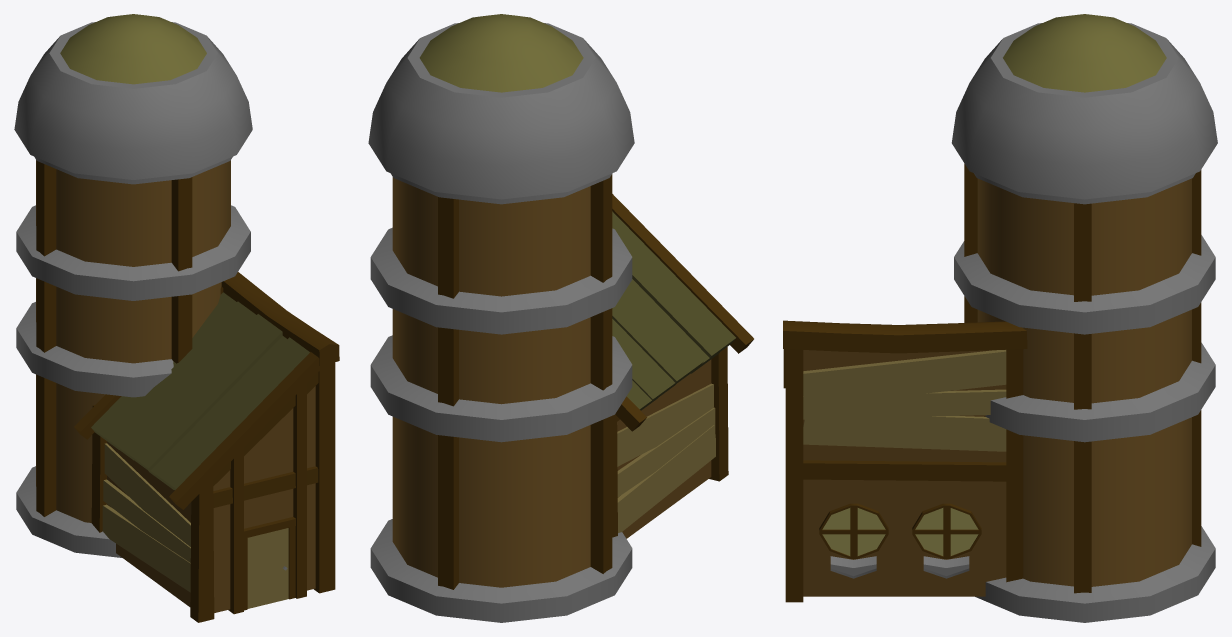
File: Mesh_Farm_Silo.fbx
The picture shows the model from 3 angles, left to right: view 1: azimuth 30°, elevation 25°; view 2: azimuth 150°, elevation 25°; view 3: azimuth 270°, elevation 25°; orthographic projection. The views are drawn at different scales.
Visible parts, largest first — view 1: Farm_Silo; view 2: Farm_Silo; view 3: Farm_Silo.
Part boxes in pixels (bbox=[...]): Farm_Silo: bbox=[14, 14, 339, 622]; Farm_Silo: bbox=[368, 14, 753, 622]; Farm_Silo: bbox=[783, 14, 1217, 622].
Size of the model in its own units: 648 by 1464 by 1058.
1 material, 1 textured.
